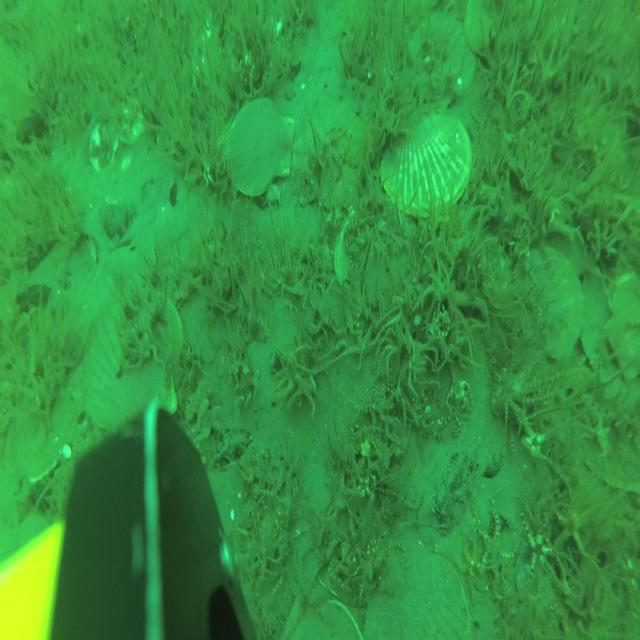scallop: (82, 301, 187, 434), (380, 115, 472, 216), (517, 241, 583, 356), (225, 96, 297, 197), (465, 0, 550, 53)
